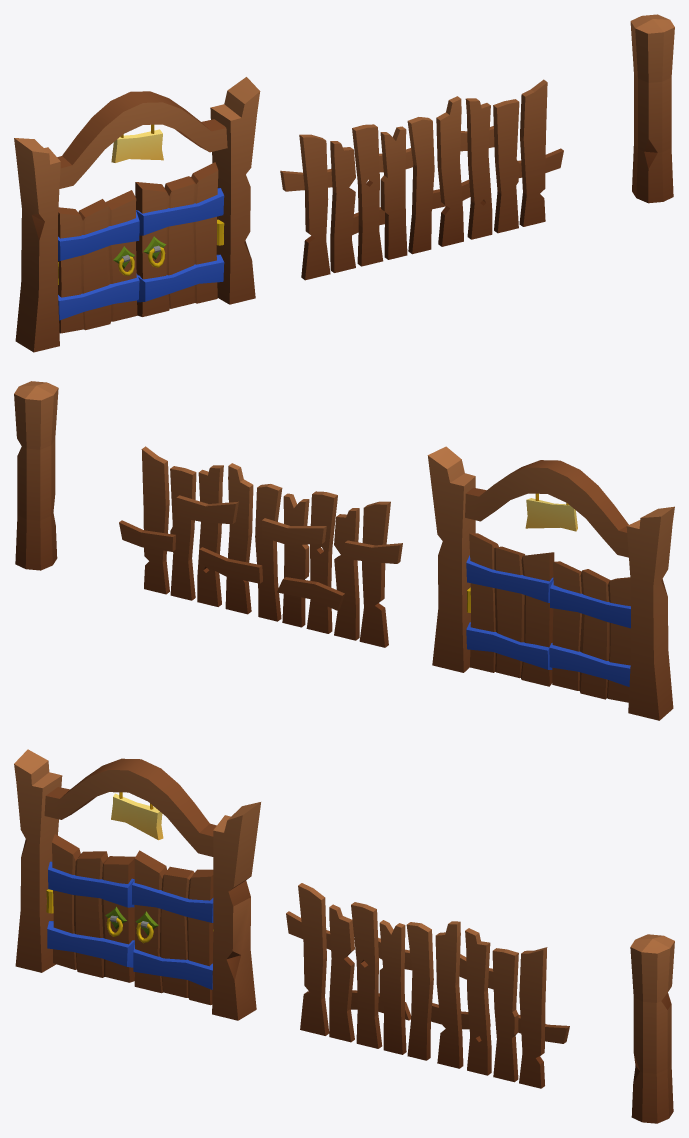
Rendered from Modular Fence Pack.glb.
3 renders of one model, top to bottom at view 1: azimuth 30°, elevation 25°; view 2: azimuth 150°, elevation 25°; view 3: azimuth 330°, elevation 25°, orthographic.
Visible parts, largest first — view 1: Gatepillar, GateRight, Fence.001, Fence, GateLeft, Fence.003, Pillar; view 2: Gatepillar, GateRight, Fence.001, Fence, Fence.003, GateLeft, Pillar; view 3: Gatepillar, GateLeft, Fence.001, GateRight, Fence, Fence.003, Pillar.
Boxes of the visible parts, <box> form: Gatepillar: <box>14,77,260,352</box>; GateRight: <box>135,162,224,316</box>; Fence.001: <box>280,124,384,280</box>; Fence: <box>460,79,563,239</box>; GateLeft: <box>58,190,139,333</box>; Fence.003: <box>379,96,470,259</box>; Pillar: <box>630,14,674,203</box>; Gatepillar: <box>427,446,674,720</box>; GateRight: <box>466,533,554,686</box>; Fence.001: <box>277,491,402,647</box>; Fence: <box>119,446,238,606</box>; Fence.003: <box>198,463,326,627</box>; GateLeft: <box>549,561,630,702</box>; Pillar: <box>14,381,58,570</box>; Gatepillar: <box>14,749,260,1020</box>; GateLeft: <box>46,834,135,982</box>; Fence.001: <box>286,883,410,1048</box>; GateRight: <box>132,850,213,1005</box>; Fence: <box>459,928,569,1088</box>; Fence.003: <box>378,920,490,1068</box>; Pillar: <box>630,934,674,1123</box>.
Bounding box in the file's own units: 11.68 × 3.85 × 0.7013.
Materials: 1 (1 with a texture image).
